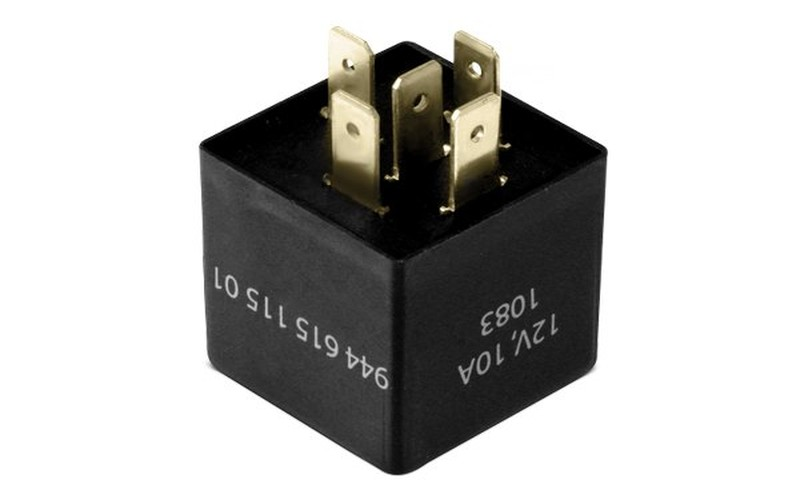Switches: (180, 17, 630, 483)
